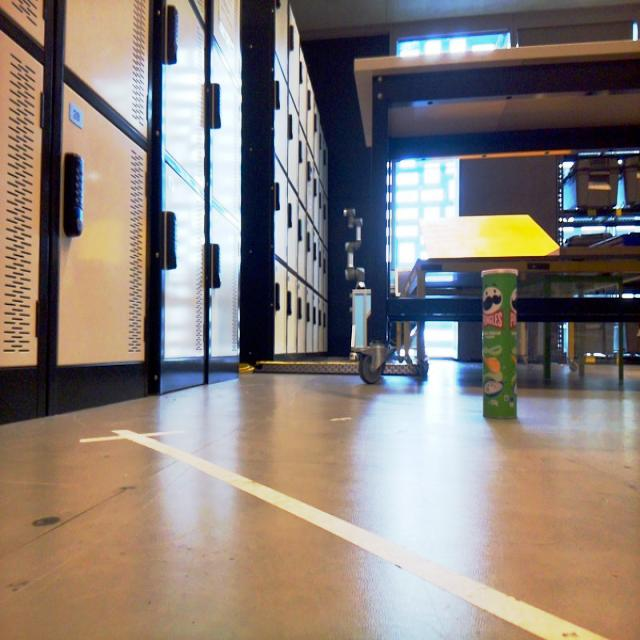greenpringles: (472, 259, 531, 430)
